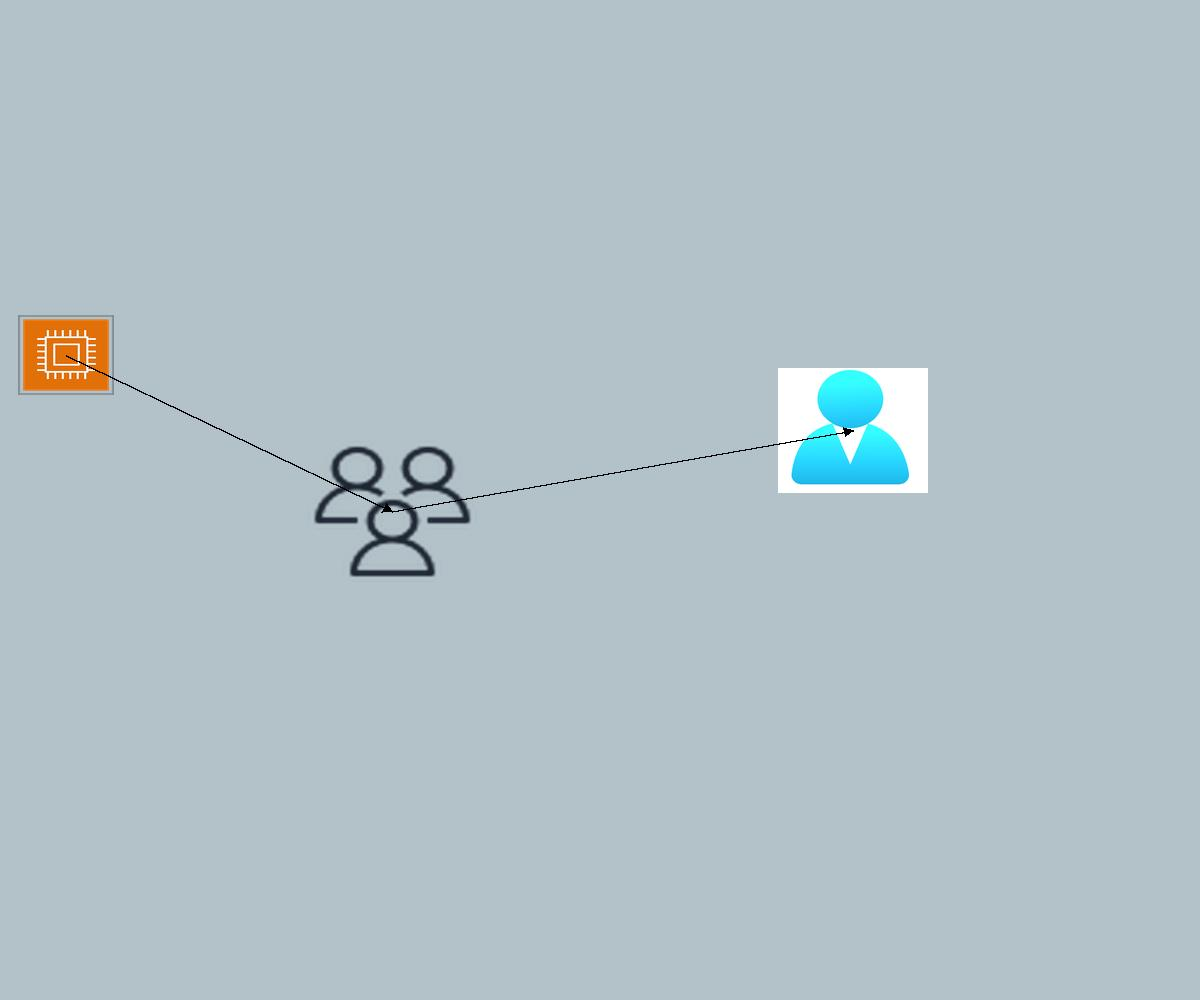AWS-Category_Compute: (18, 315, 114, 395)
AWS-Res_Users: (308, 441, 477, 582)
Azure_users: (778, 368, 928, 493)
